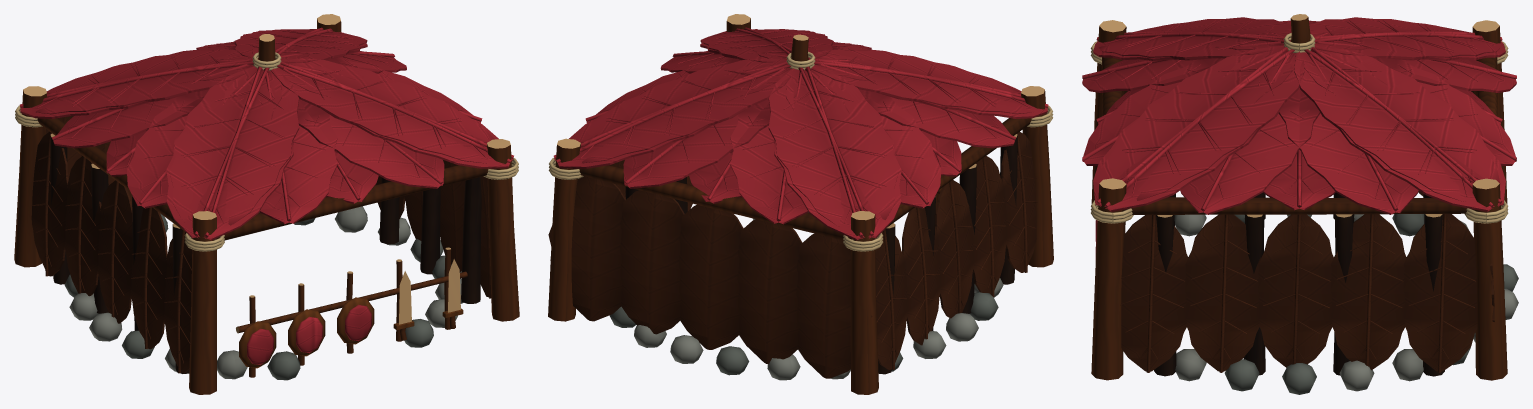
3 views of the same model, side by side, from view 1: azimuth 30°, elevation 25°; view 2: azimuth 150°, elevation 25°; view 3: azimuth 270°, elevation 25° (orthographic). The views are drawn at different scales.
Parts seen in each view (by area): view 1: canopy-barracks · evaluated preview mesh; view 2: canopy-barracks · evaluated preview mesh; view 3: canopy-barracks · evaluated preview mesh.
Part boxes in pixels (x1=…): canopy-barracks · evaluated preview mesh: x1=14, y1=14, x2=519, y2=394; canopy-barracks · evaluated preview mesh: x1=548, y1=14, x2=1053, y2=394; canopy-barracks · evaluated preview mesh: x1=1082, y1=14, x2=1518, y2=394.
Size of the model in its own units: 6.43 by 4.64 by 6.32.
Materials: 9 (5 with a texture image).
